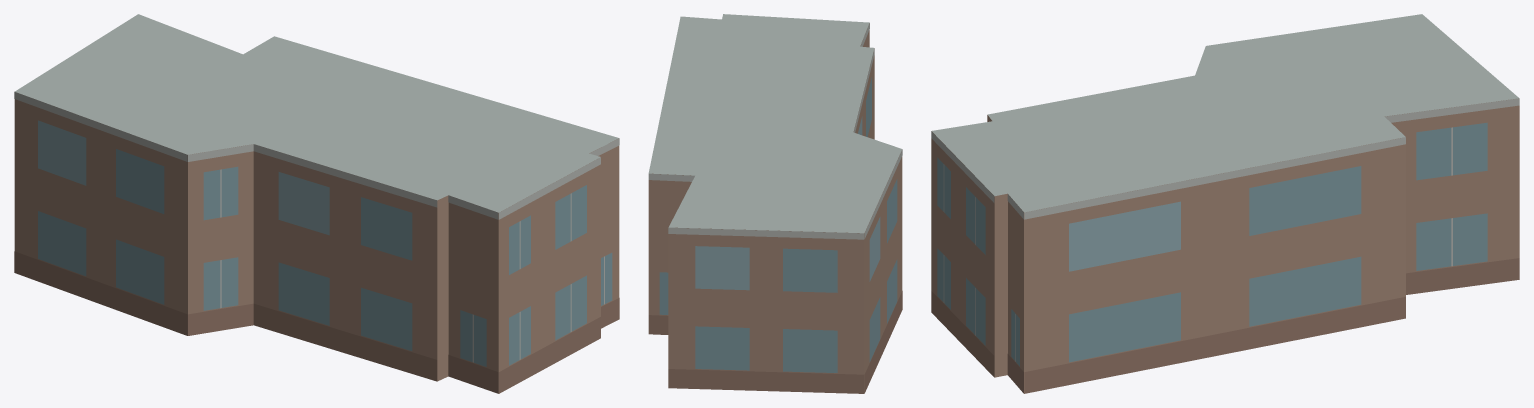
The model's file is survey-upis-32475697.glb.
3 views of the same model, side by side, from view 1: azimuth 30°, elevation 25°; view 2: azimuth 150°, elevation 25°; view 3: azimuth 270°, elevation 25° (orthographic). The views are drawn at different scales.
Parts seen in each view (by area): view 1: survey-upis-32475697.tmp; view 2: survey-upis-32475697.tmp; view 3: survey-upis-32475697.tmp.
Boxes of the visible parts, x1,y1,x2,y2 form: survey-upis-32475697.tmp: [14, 14, 619, 393]; survey-upis-32475697.tmp: [648, 14, 902, 393]; survey-upis-32475697.tmp: [931, 14, 1519, 393].
Size of the model in its own units: 14.32 by 6.1 by 17.93.
